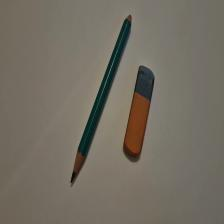eraser: (124, 66, 156, 158)
pencil: (71, 15, 133, 184)
